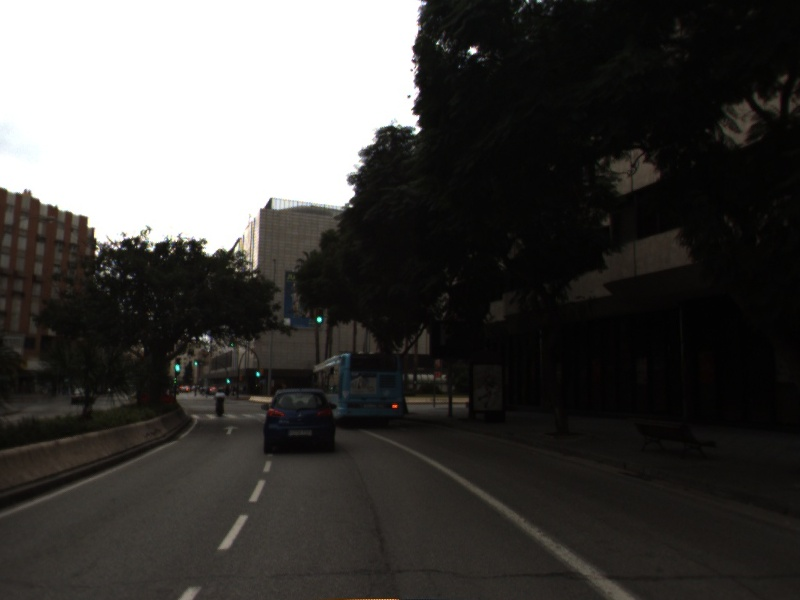STRAIGHT: (221, 423, 242, 437)
